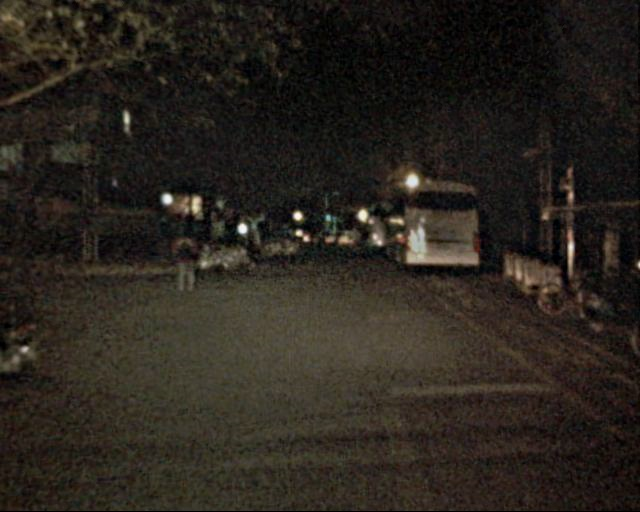person: (170, 217, 201, 293), (240, 220, 259, 267), (348, 227, 371, 257)
